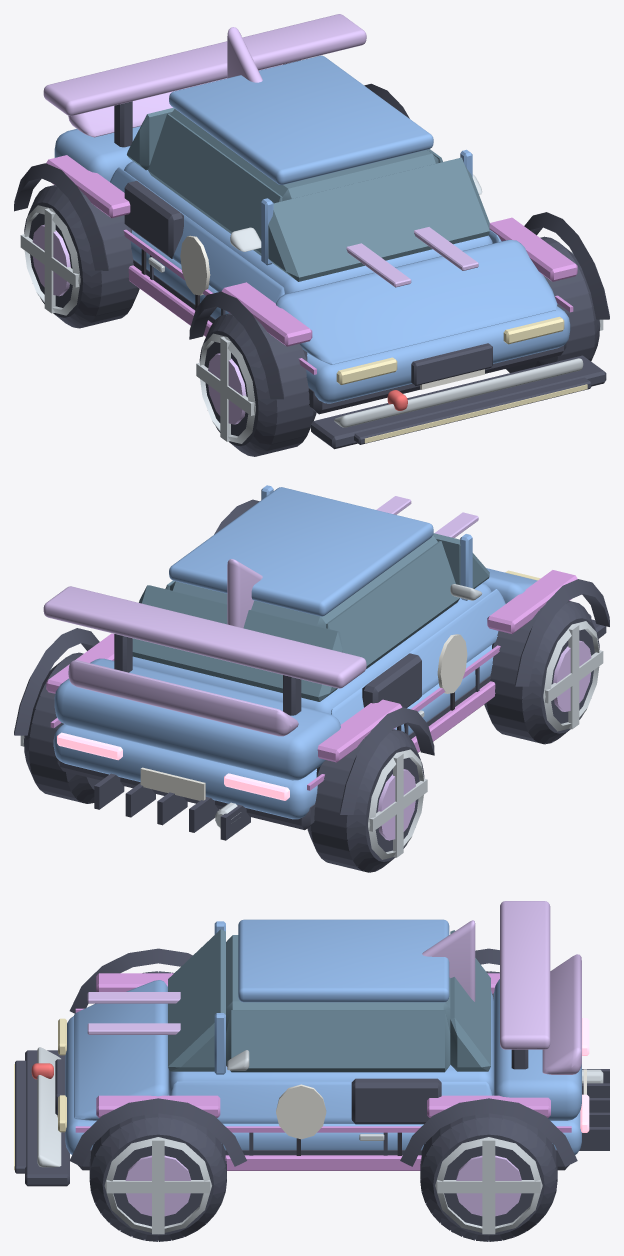
File: carbon_comet.fbx
3 views of the same model, one above another, from view 1: azimuth 30°, elevation 25°; view 2: azimuth 150°, elevation 25°; view 3: azimuth 270°, elevation 25° (orthographic). The views are drawn at different scales.
Parts seen in each view (by area): view 1: Body, Glass, Trim, Accent2, Accent, Wheel_FR, Wheel_RR, Metal, Accent4, Wheel_FL, Light, Metal2 (+2 smaller); view 2: Body, Accent2, Glass, Trim, Wheel_RR, Accent, Wheel_FR, Metal, Wheel_RL, Accent3, Metal2, Light2 (+1 smaller); view 3: Body, Glass, Trim, Accent2, Metal, Wheel_FL, Wheel_RL, Accent, Metal2, Accent4, Accent3, Light3 (+2 smaller).
Part boxes in pixels (<box>): Body: <box>54,55,570,403</box>; Glass: <box>127,107,489,281</box>; Trim: <box>14,60,609,449</box>; Accent2: <box>43,14,366,137</box>; Accent: <box>46,155,577,374</box>; Wheel_FR: <box>199,313,316,456</box>; Wheel_RR: <box>24,185,139,328</box>; Metal: <box>20,205,603,443</box>; Accent4: <box>230,174,583,427</box>; Wheel_FL: <box>506,236,599,372</box>; Light: <box>336,316,587,443</box>; Metal2: <box>32,224,246,424</box>; Body: <box>53,485,537,819</box>; Accent2: <box>43,559,366,736</box>; Glass: <box>132,533,489,701</box>; Trim: <box>14,499,609,840</box>; Wheel_RR: <box>307,729,424,872</box>; Accent: <box>46,570,577,790</box>; Wheel_FR: <box>484,601,599,744</box>; Metal: <box>20,621,603,859</box>; Wheel_RL: <box>24,652,100,803</box>; Accent3: <box>140,634,467,800</box>; Metal2: <box>377,640,591,840</box>; Light2: <box>57,732,289,800</box>; Body: <box>65,919,581,1154</box>; Glass: <box>168,929,490,1072</box>; Trim: <box>15,948,609,1186</box>; Accent2: <box>226,901,581,1074</box>; Metal: <box>104,1069,603,1234</box>; Wheel_FL: <box>89,1113,226,1241</box>; Wheel_RL: <box>420,1113,557,1241</box>; Accent: <box>75,973,571,1170</box>; Metal2: <box>125,1155,521,1216</box>; Accent4: <box>37,1047,249,1167</box>; Accent3: <box>57,1069,586,1139</box>; Light3: <box>87,992,180,1034</box>.
Bounding box in the file's own units: 3.21 × 2.29 × 4.99.
